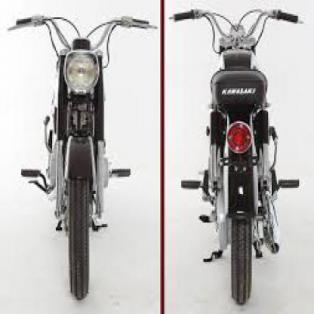Motocicleta: (9, 0, 159, 309), (169, 0, 304, 312)
